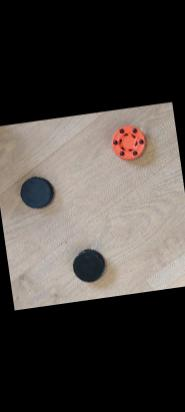hockey puck: (104, 122, 149, 164), (67, 244, 108, 286), (16, 171, 56, 213)
